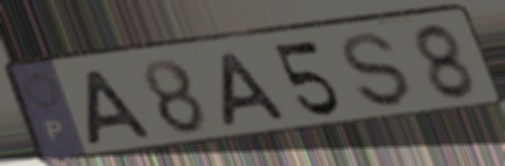5: (269, 40, 343, 119)
8: (141, 57, 208, 137), (412, 21, 476, 103)
A: (82, 68, 158, 148), (219, 49, 292, 131)
S: (340, 30, 416, 110)
